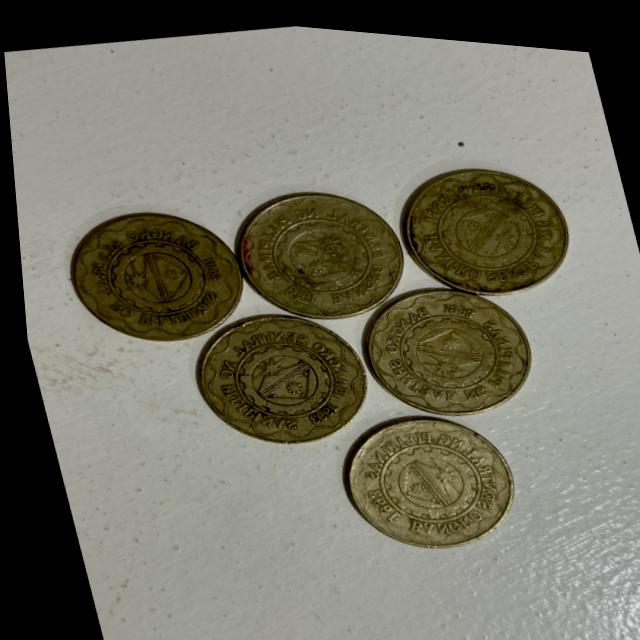5_Old_Back: (314, 386, 526, 565), (51, 185, 259, 359), (170, 297, 372, 459), (348, 264, 541, 422), (386, 143, 579, 299), (224, 165, 411, 322)
